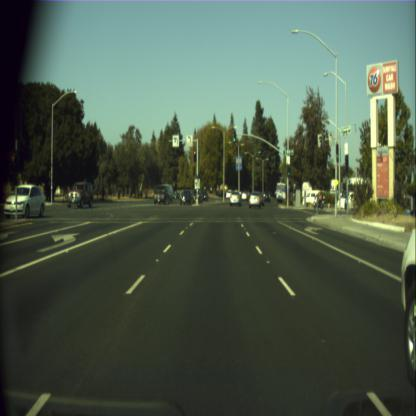Green: (232, 130, 236, 142), (336, 142, 338, 161), (287, 164, 290, 176)
RedLeft: (192, 147, 196, 162)
